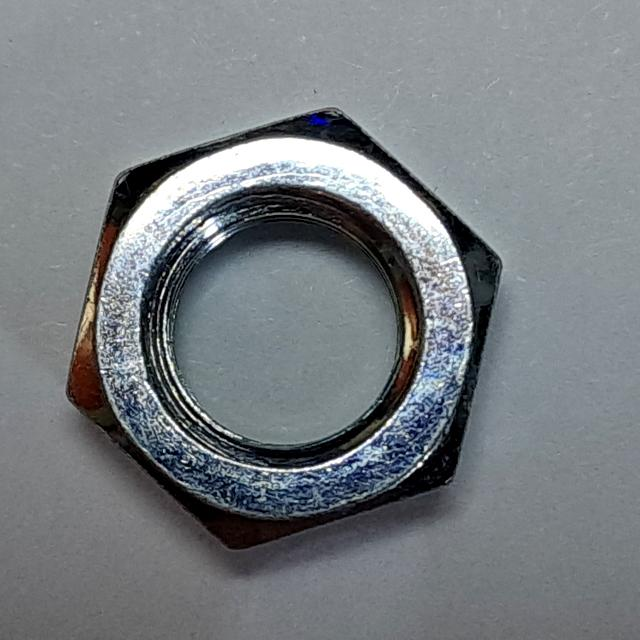Excellent: (44, 87, 530, 572)
